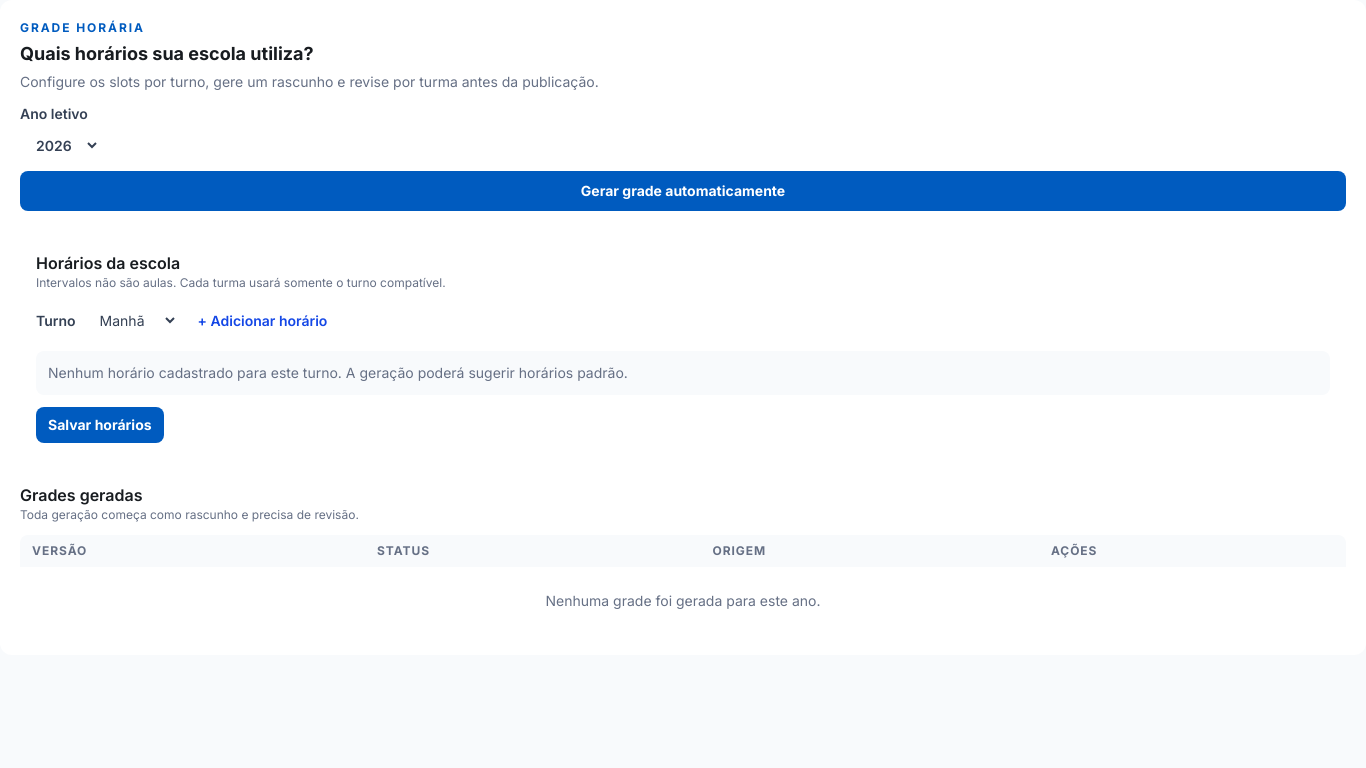
Test: TimetableAutomationPanel › mostra o bloqueio e os diagnósticos quando a geração é UNSAT
Click the button "Gerar grade automaticamente" at x=683, y=191, box [20,171,1346,211]
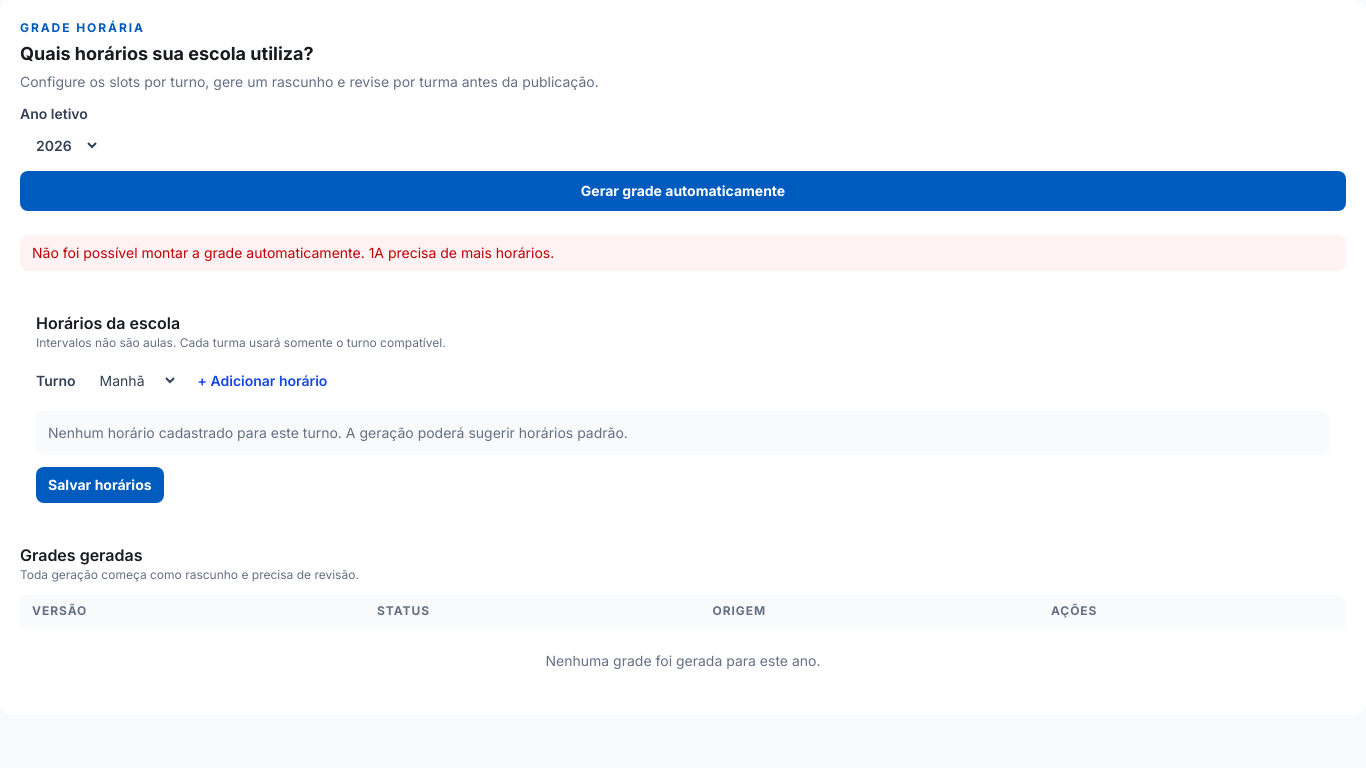
Expected: the message shows "Não foi possível montar a grade", [32,244,554,261]
Expected: the message shows "precisa de mais horários", [32,244,554,261]
